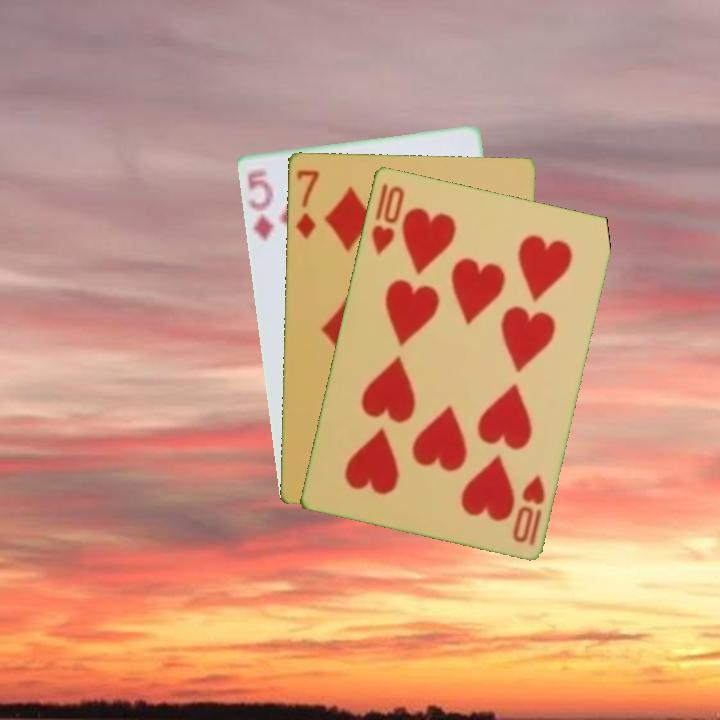10h: (367, 179, 407, 258), (508, 471, 548, 548)
5d: (243, 164, 276, 244)
7d: (292, 166, 321, 241)
